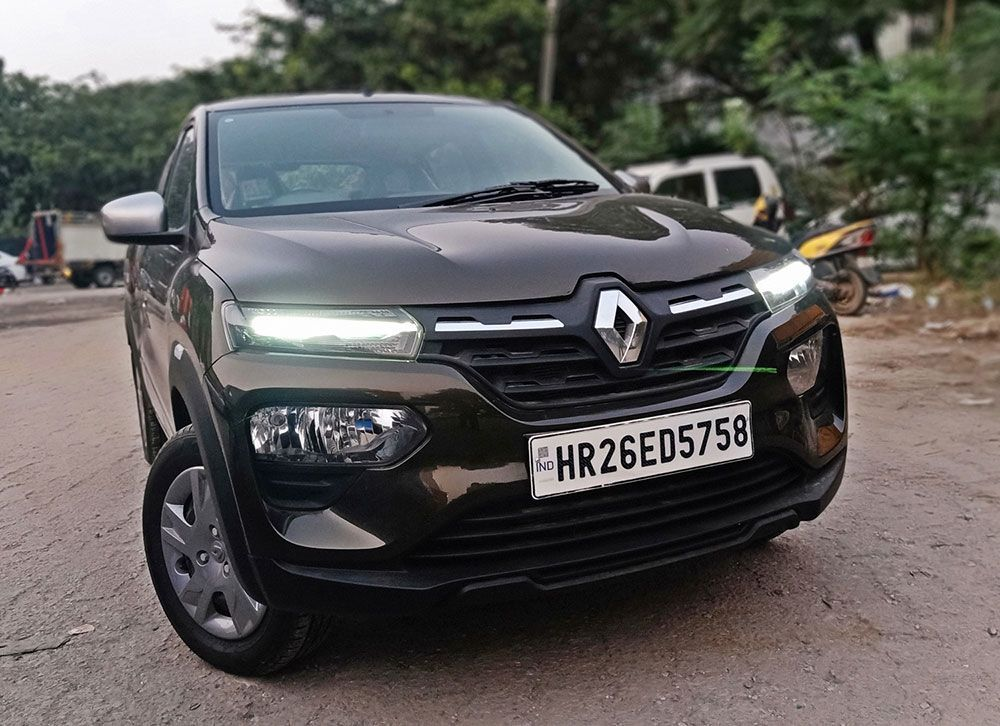numberplate: (530, 401, 752, 499)
